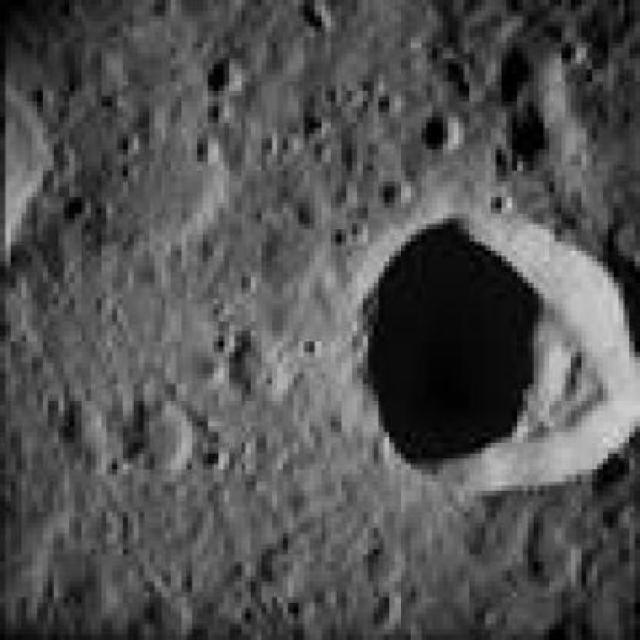crater: (361, 214, 639, 492)
